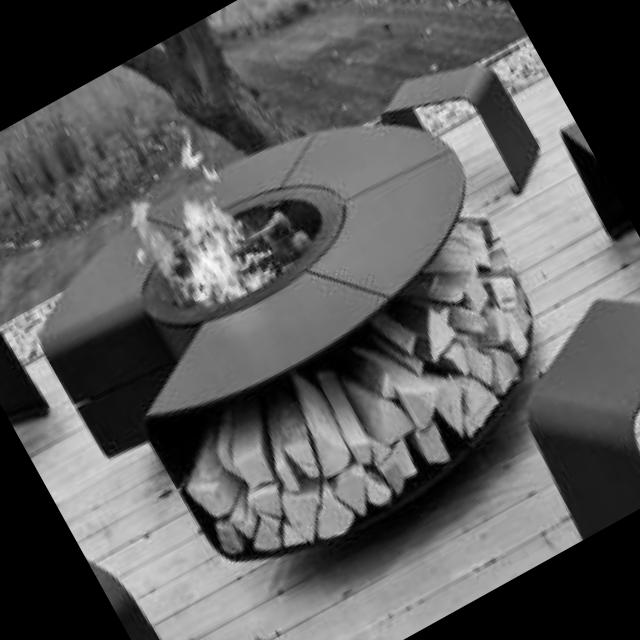fire: (98, 128, 282, 327)
